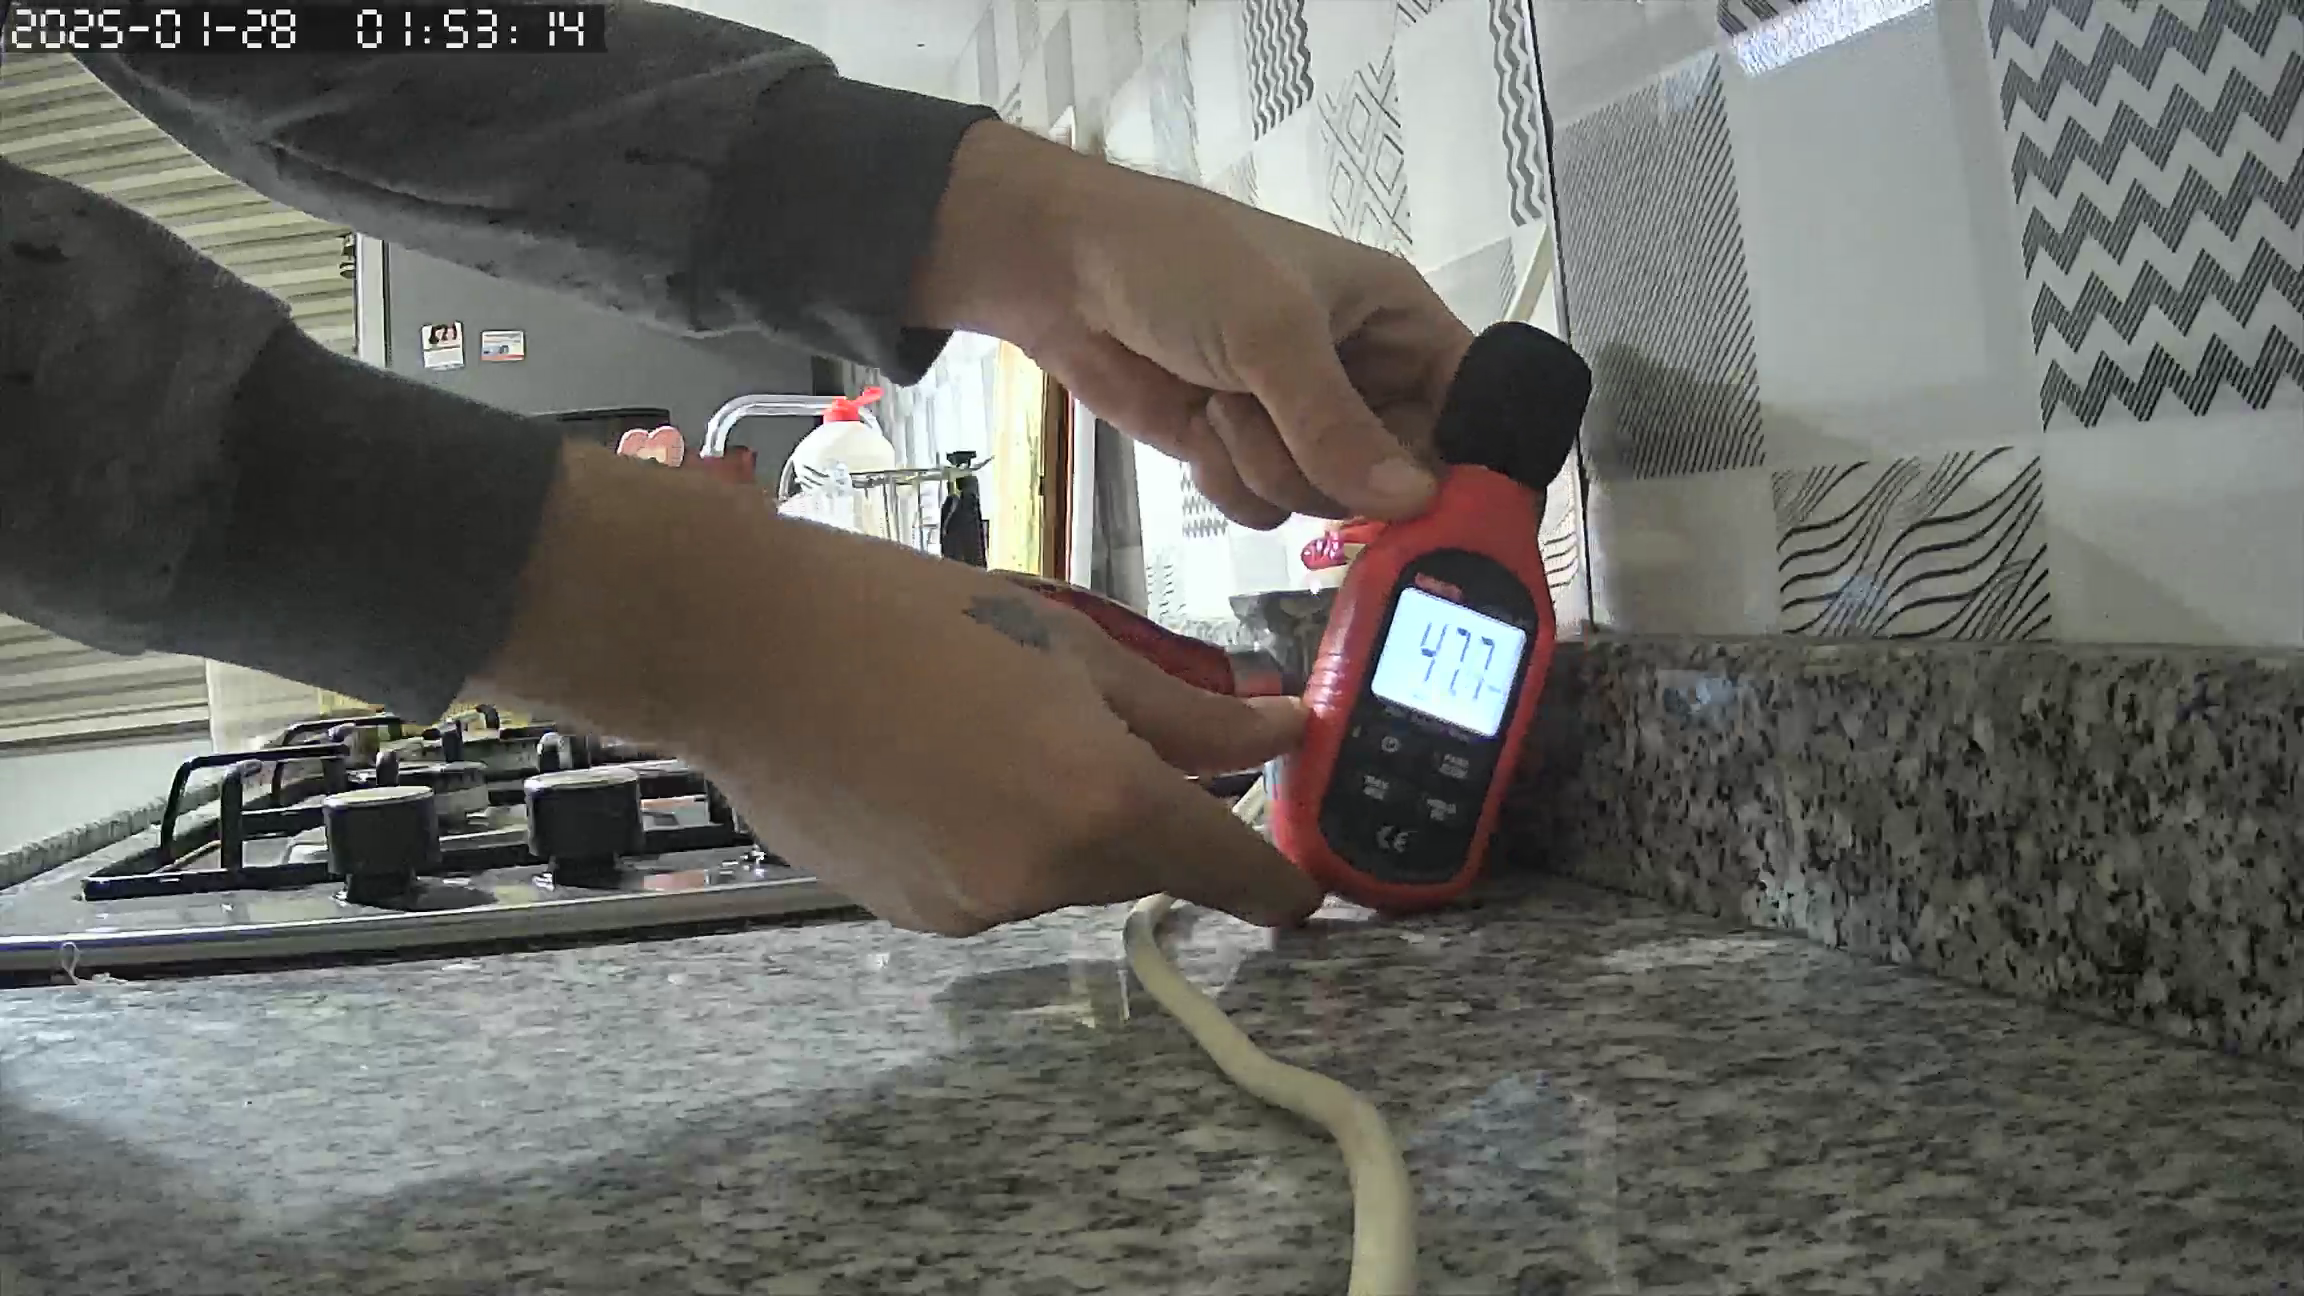screen: (1367, 587, 1530, 741)
